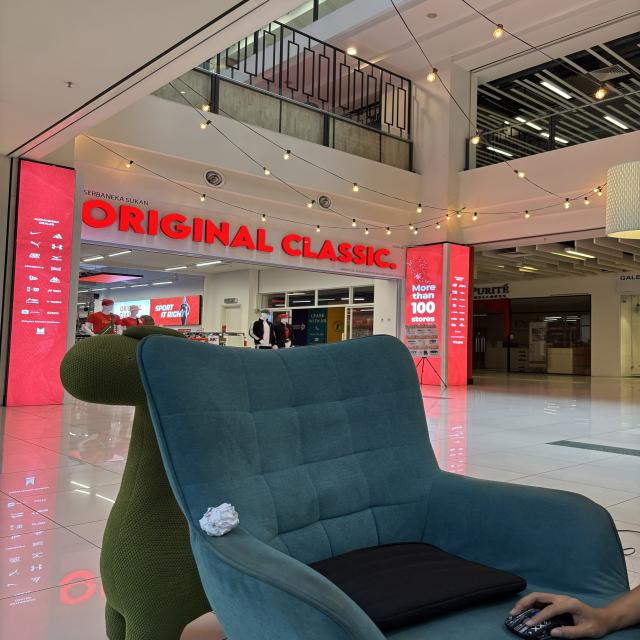crumpled_paper: (196, 499, 244, 537)
